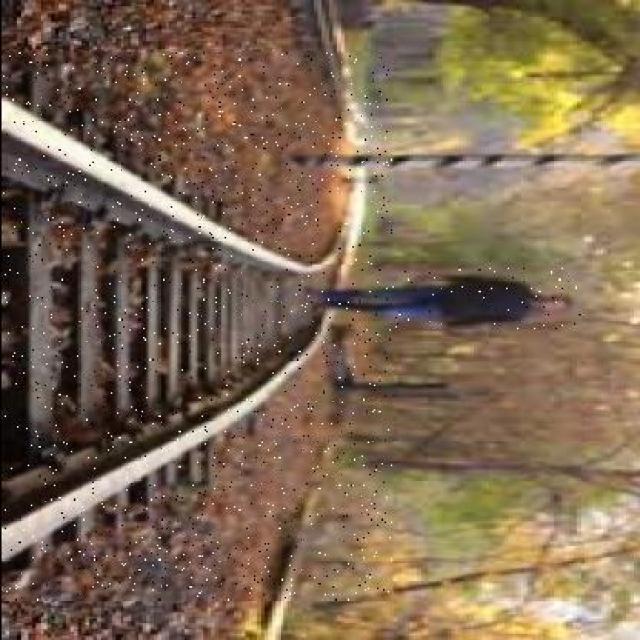rail: (3, 54, 391, 601)
